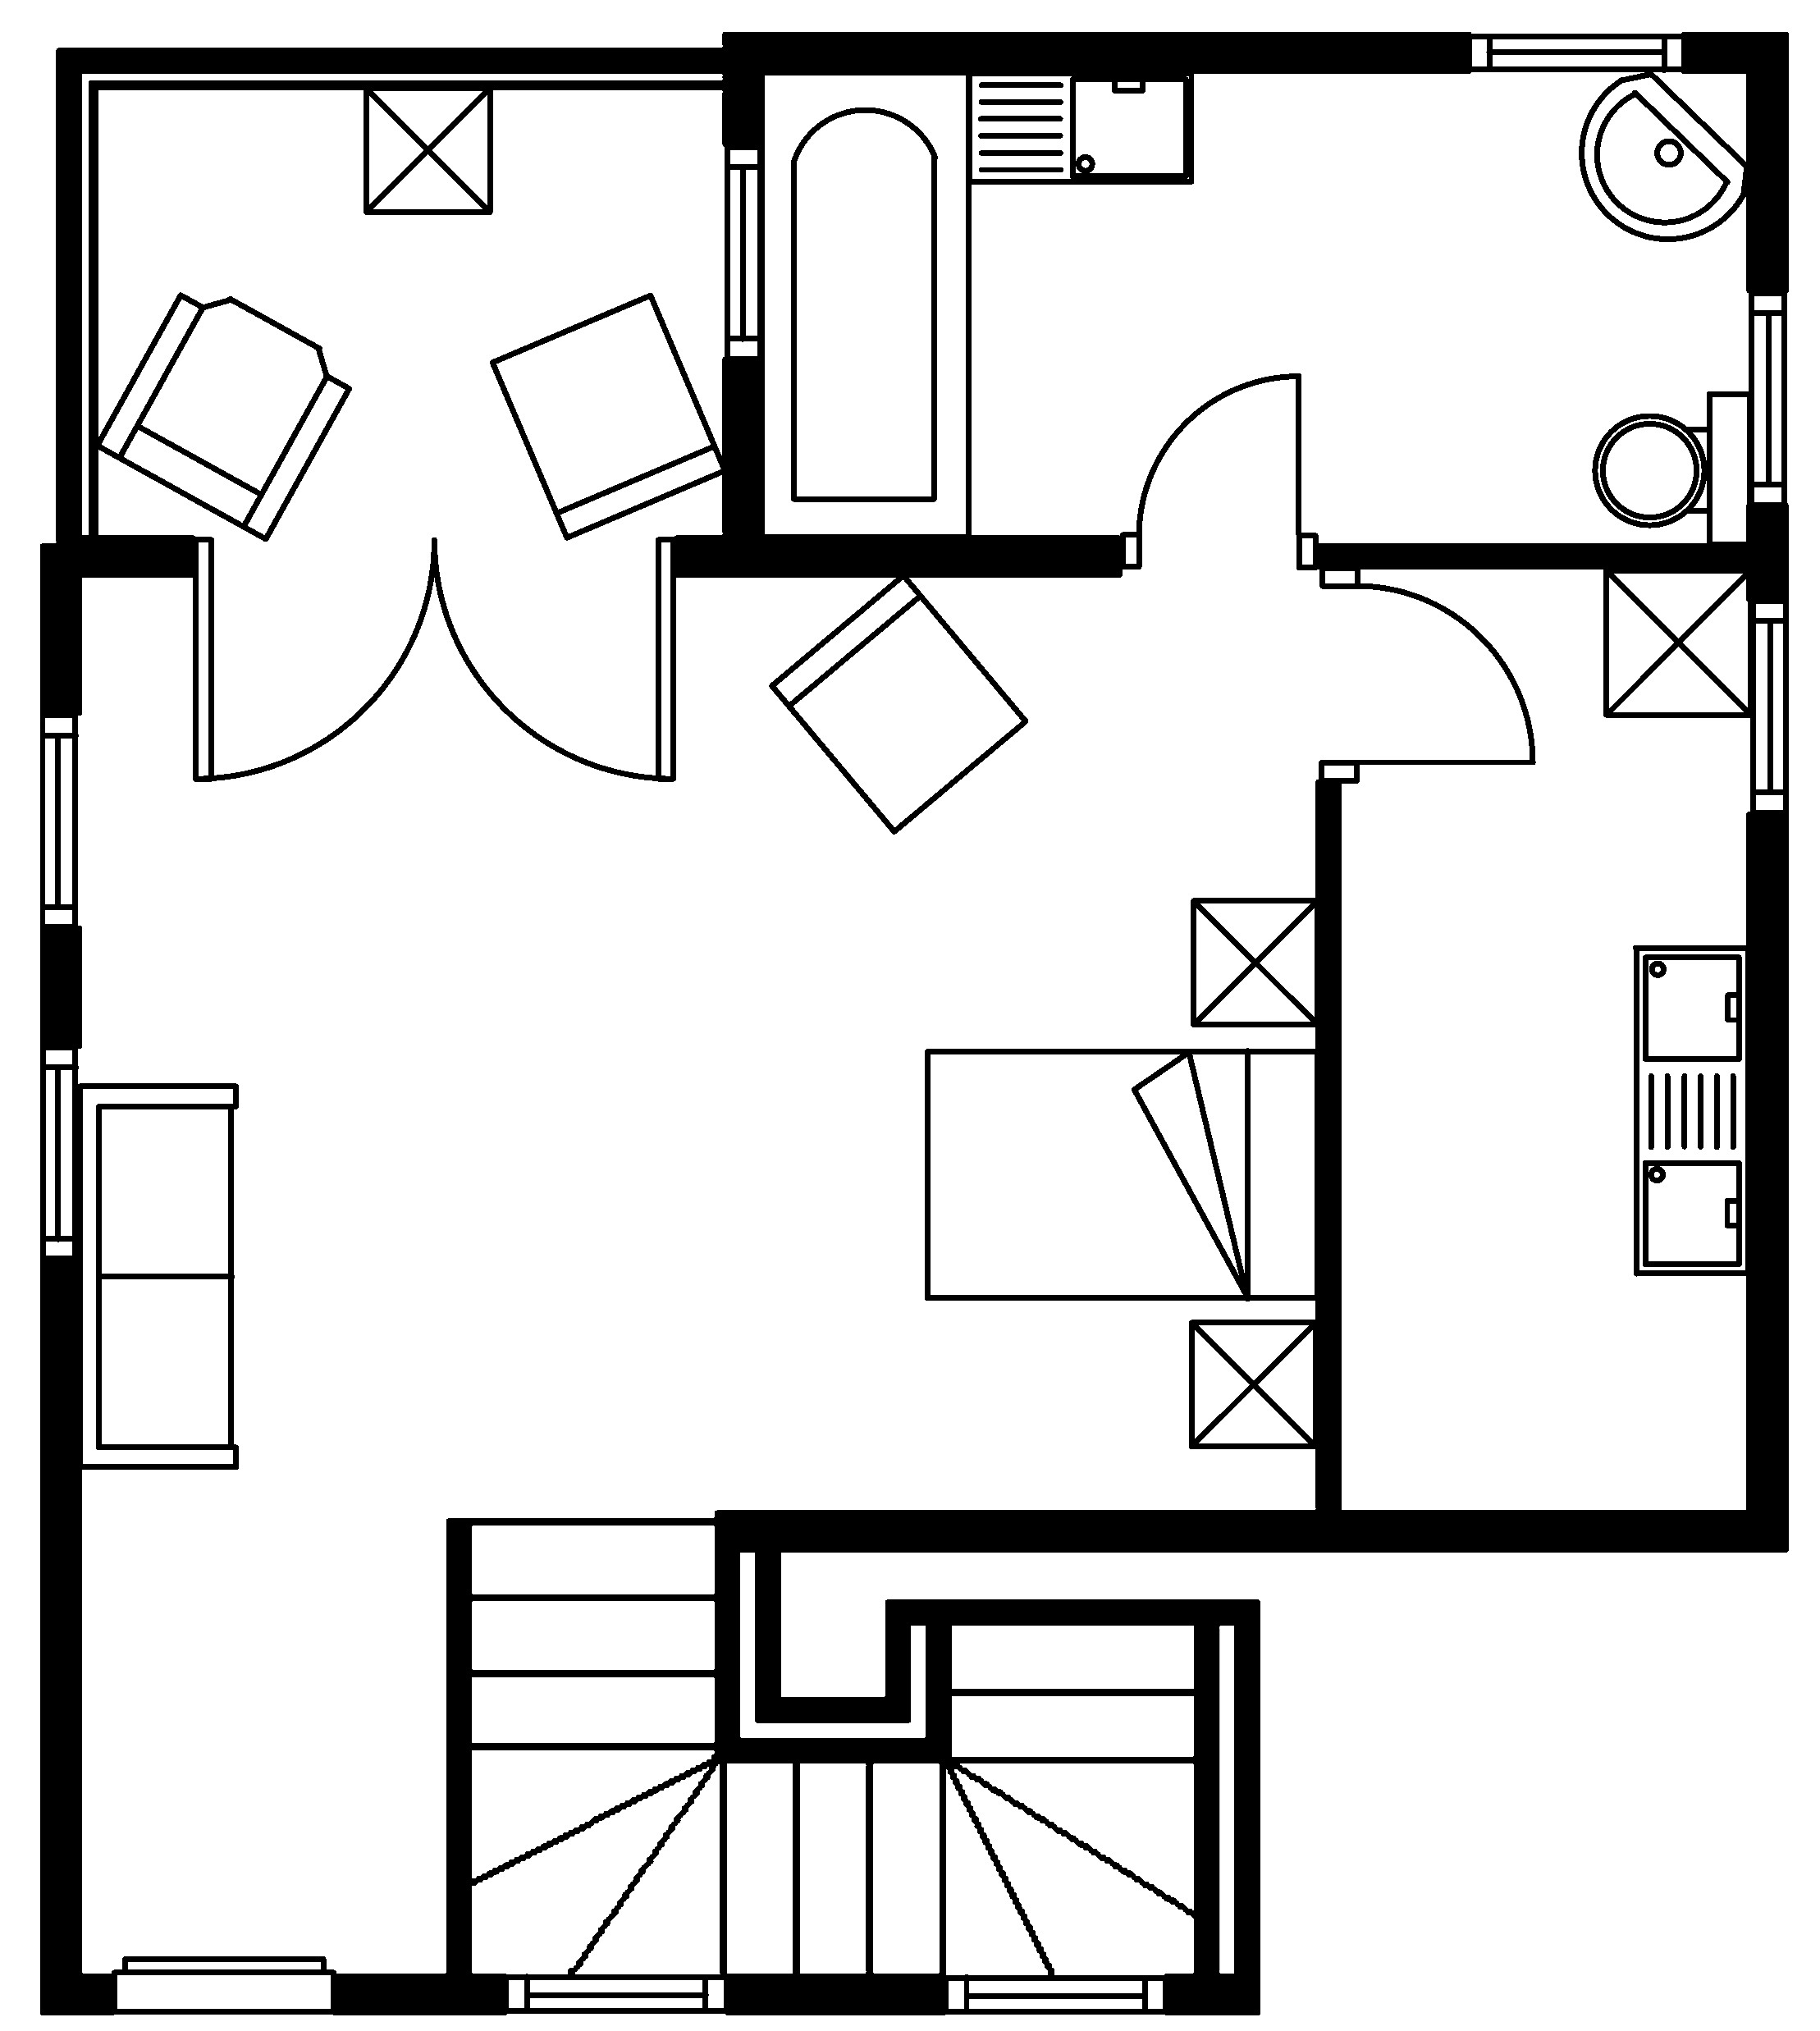armchair: (93, 290, 351, 543)
bed: (922, 1047, 1321, 1302)
coffee_table: (1602, 566, 1753, 719), (1186, 1318, 1319, 1449), (1189, 896, 1321, 1028), (362, 84, 494, 214)
large_sink: (1592, 388, 1753, 548)
large_sofa: (76, 1082, 239, 1471)
sink: (964, 69, 1195, 184)
small_sink: (1578, 70, 1750, 241)
small_sofa: (768, 571, 1028, 835), (488, 290, 727, 541)
tub: (757, 69, 971, 539)
twin_sink: (1630, 943, 1751, 1277)
